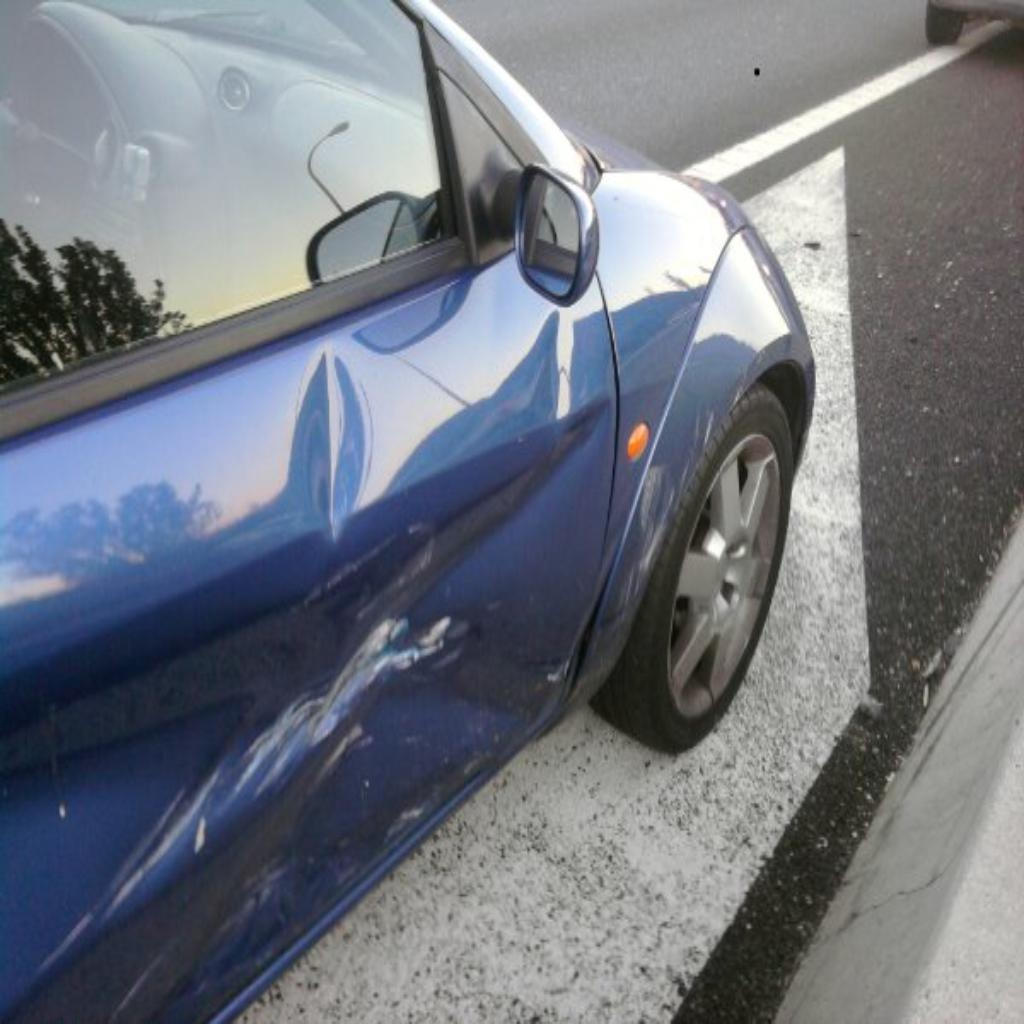Dent: (1, 414, 612, 1024), (287, 347, 372, 536)
Scratch: (635, 390, 733, 585)
